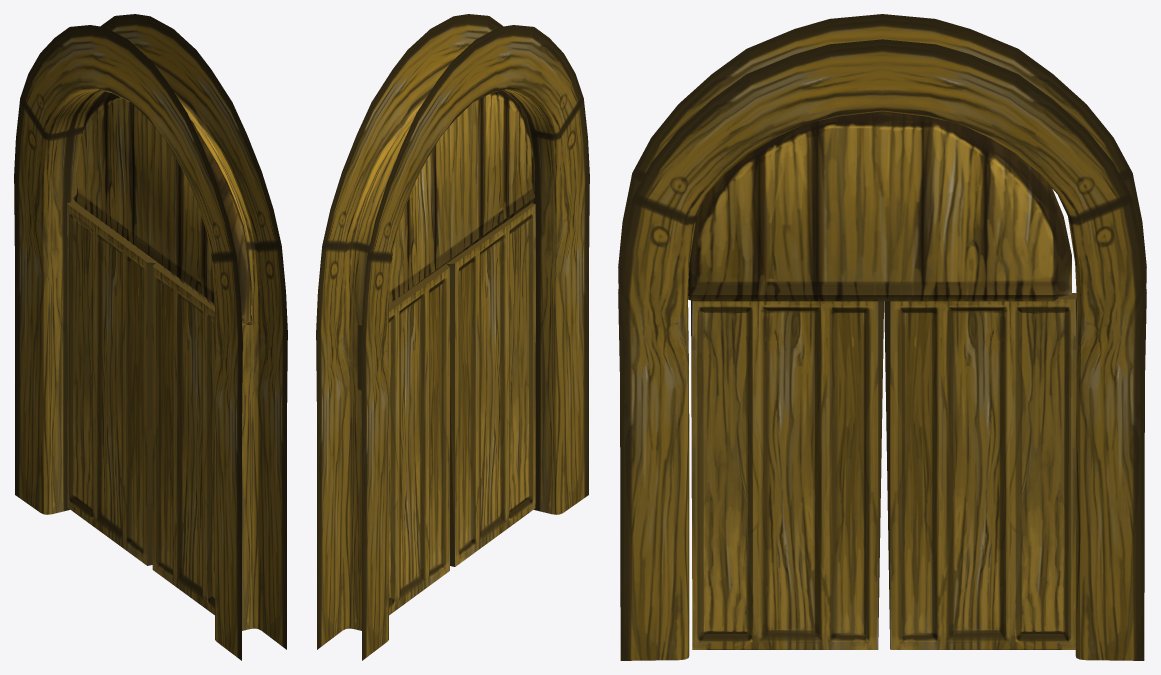
Rendered from DoorB.FBX.
3 renders of one model, left to right at view 1: azimuth 30°, elevation 25°; view 2: azimuth 150°, elevation 25°; view 3: azimuth 270°, elevation 25°, orthographic. The views are drawn at different scales.
Parts seen in each view (by area): view 1: DoorB_Frame, DoorB_L, DoorB_R, DoorB_Tr; view 2: DoorB_Frame, DoorB_R, DoorB_L, DoorB_Tr; view 3: DoorB_Frame, DoorB_R, DoorB_L, DoorB_Tr.
Part boxes in pixels (box(x1,y1,x2,y2)): DoorB_Frame: box(14, 14, 287, 660); DoorB_L: box(66, 201, 155, 565); DoorB_R: box(152, 263, 215, 614); DoorB_Tr: box(73, 91, 252, 324); DoorB_Frame: box(316, 14, 589, 660); DoorB_R: box(446, 203, 535, 566); DoorB_L: box(357, 264, 449, 627); DoorB_Tr: box(389, 90, 535, 303); DoorB_Frame: box(618, 14, 1146, 660); DoorB_R: box(691, 300, 883, 649); DoorB_L: box(884, 293, 1076, 649); DoorB_Tr: box(688, 111, 1071, 301).
Bounding box in the file's own units: 0.1954 × 1.72 × 2.23.
